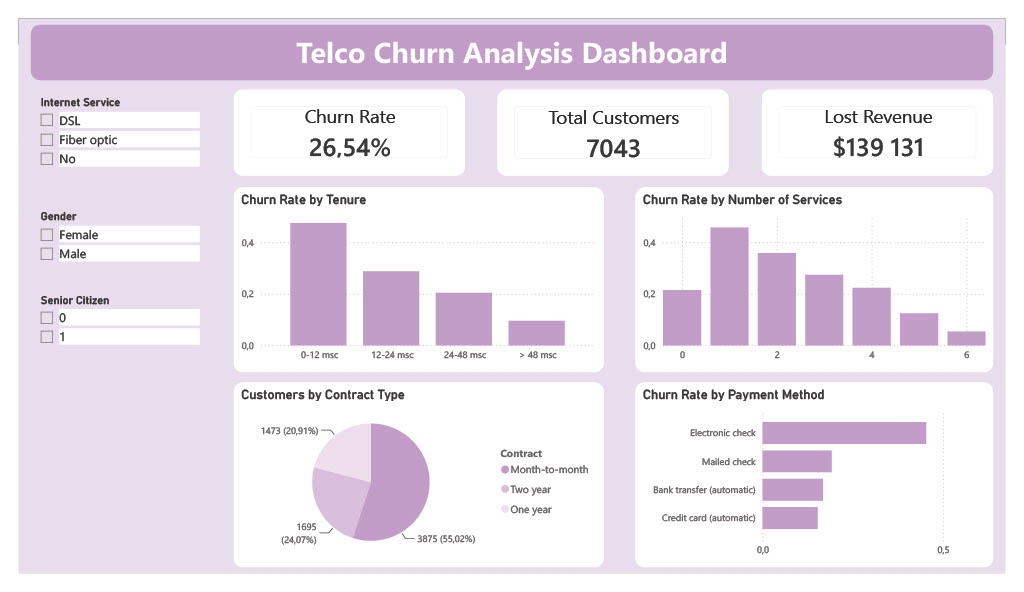

Layout of this report page (visuals, bound fields, positions):
{"tool":"powerbi","page":{"name":"Strona 1","canvas":[1280,720],"ordinal":0},"visuals":[{"type":"cardVisual","fields":{"Data":["Fact_Churn.ChurnRate"]},"box":[278.5,92.2,300,111.9],"z":0},{"type":"cardVisual","fields":{"Data":["Fact_Churn.TotalCustomers"]},"box":[621,92.2,300,112],"z":1000},{"type":"cardVisual","fields":{"Data":["Fact_Churn.LostRevenue$"]},"box":[963.6,92.2,300,111.9],"z":2000},{"type":"columnChart","title":"Churn Rate by Tenure","fields":{"Category":["Fact_Churn.tenure_group"],"Y":["Fact_Churn.ChurnRate"]},"box":[278.5,219.4,480,240],"z":3000},{"type":"pieChart","title":"Customers by Contract Type","fields":{"Category":["Dim_Contracts.Contract"],"Y":["Fact_Churn.TotalCustomers"]},"box":[278.5,471.9,480,240],"z":4000},{"type":"slicer","fields":{"Values":["Dim_Services.InternetService"]},"box":[16,96,224,128],"z":5000},{"type":"textbox","box":[16,8,1248,72],"z":6000},{"type":"barChart","title":"Churn Rate by Payment Method","fields":{"Category":["Dim_Contracts.PaymentMethod"],"Y":["Fact_Churn.ChurnRate"]},"box":[800,472,464,240],"z":7000},{"type":"slicer","fields":{"Values":["Dim_Demographics.gender"]},"box":[16,244,224,88],"z":8000},{"type":"columnChart","title":"Churn Rate by Number of Services","fields":{"Category":["Dim_Services.total_services"],"Y":["Fact_Churn.ChurnRate"]},"box":[800,219,464,240],"z":9000},{"type":"slicer","fields":{"Values":["Dim_Demographics.SeniorCitizen"]},"box":[16,352,224,88],"z":10000}]}

Visuals, with their boxes in screenshot pixels (x1, y1, x2, y2), scaled from the page's 1280x720 canvas onto the 1024x592 screenshot:
cardVisual - Fact_Churn.ChurnRate: bbox(223, 76, 463, 168)
cardVisual - Fact_Churn.TotalCustomers: bbox(497, 76, 737, 168)
cardVisual - Fact_Churn.LostRevenue$: bbox(771, 76, 1011, 168)
"Churn Rate by Tenure" columnChart: bbox(223, 180, 607, 378)
"Customers by Contract Type" pieChart: bbox(223, 388, 607, 585)
slicer - Dim_Services.InternetService: bbox(13, 79, 192, 184)
textbox: bbox(13, 7, 1011, 66)
"Churn Rate by Payment Method" barChart: bbox(640, 388, 1011, 585)
slicer - Dim_Demographics.gender: bbox(13, 201, 192, 273)
"Churn Rate by Number of Services" columnChart: bbox(640, 180, 1011, 377)
slicer - Dim_Demographics.SeniorCitizen: bbox(13, 289, 192, 362)
